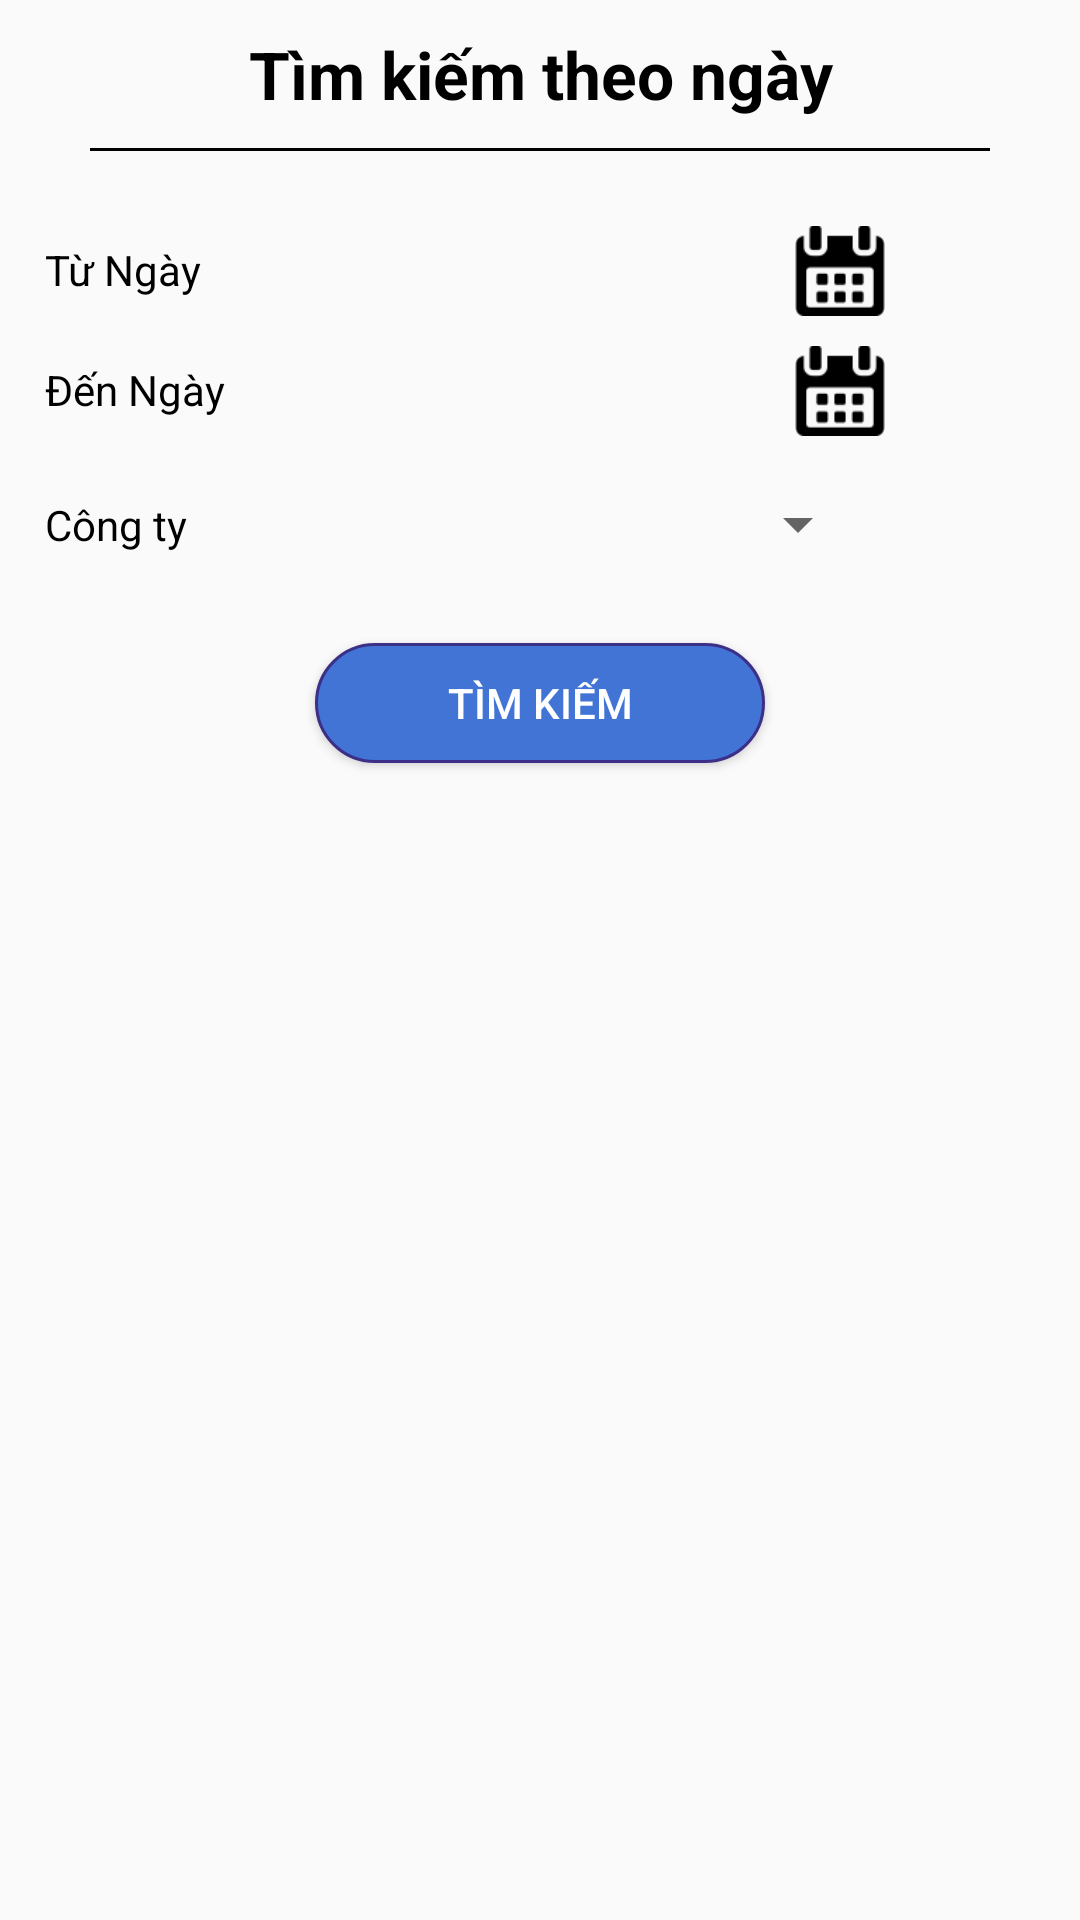

Named icons in this screenshot (1080*1920) and their bounding boxes, (x1, y1, x2, y2):
calendar: (795, 226, 885, 316), (795, 346, 885, 436)
